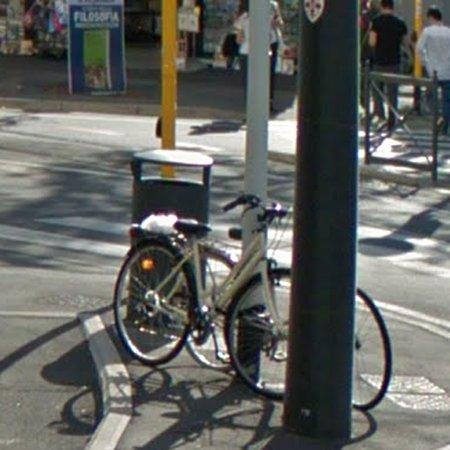bicycles: (114, 195, 290, 400), (353, 289, 393, 411)
